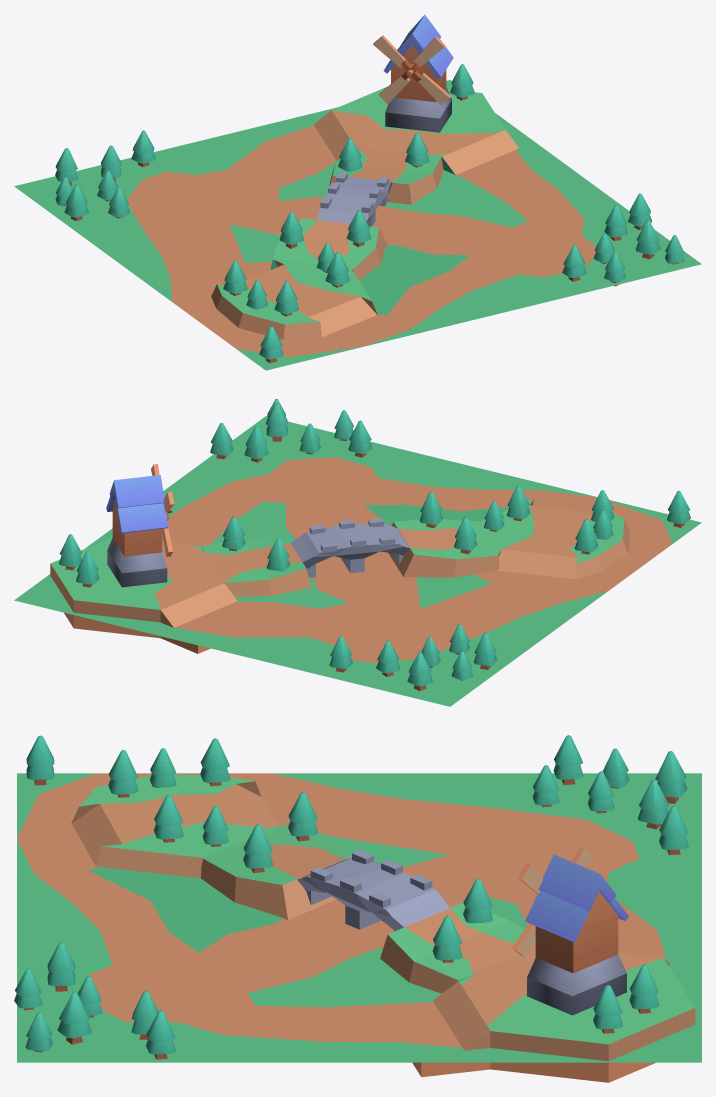
The model's file is TL_paperland.glb.
3 renders of one model, top to bottom at view 1: azimuth 30°, elevation 25°; view 2: azimuth 150°, elevation 25°; view 3: azimuth 270°, elevation 25°, orthographic. The views are drawn at different scales.
Visible parts, largest first — view 1: Plane, building-mill, building-mill.004, building-mill.003, Cube, rotate-x, building-mill.019, building-mill.013, building-mill.021, building-mill.012, building-mill.028, building-mill.014 (+10 smaller); view 2: Plane, building-mill, building-mill.004, building-mill.003, Cube, building-mill.026, building-mill.019, building-mill.014, building-mill.013, building-mill.021, building-mill.028, building-mill.001 (+11 smaller); view 3: Plane, building-mill, building-mill.004, building-mill.003, Cube, rotate-x, building-mill.019, building-mill.026, building-mill.014, building-mill.028, building-mill.013, building-mill.021 (+20 smaller).
Part boxes in pixels (x1,y1,x2,y2): Plane: (14, 80, 701, 370); building-mill: (314, 14, 518, 204); building-mill.004: (211, 260, 377, 339); building-mill.003: (270, 218, 387, 280); Cube: (317, 172, 392, 226); rotate-x: (373, 35, 450, 105); building-mill.019: (635, 220, 660, 259); building-mill.013: (279, 211, 303, 248); building-mill.021: (64, 184, 88, 221); building-mill.012: (347, 210, 371, 247); building-mill.028: (259, 326, 283, 363); building-mill.014: (562, 244, 586, 281); Plane: (14, 416, 701, 706); building-mill: (50, 475, 311, 653); building-mill.004: (478, 498, 629, 579); building-mill.003: (388, 519, 499, 577); Cube: (290, 518, 409, 577); building-mill.026: (407, 652, 432, 690); building-mill.019: (266, 403, 287, 441); building-mill.014: (348, 420, 372, 457); building-mill.013: (454, 517, 477, 554); building-mill.021: (473, 633, 497, 669); building-mill.028: (667, 491, 691, 527); building-mill.001: (76, 551, 99, 587); Plane: (17, 773, 701, 1062); building-mill: (380, 854, 695, 1082); building-mill.004: (71, 774, 280, 878); building-mill.003: (201, 825, 355, 919); Cube: (297, 850, 449, 931); rotate-x: (512, 847, 592, 957); building-mill.019: (57, 991, 91, 1044); building-mill.026: (655, 751, 687, 803); building-mill.014: (47, 942, 75, 991); building-mill.028: (26, 735, 54, 785); building-mill.013: (288, 792, 317, 841); building-mill.021: (553, 735, 583, 785).
Size of the model in its own units: 2 by 0.5454 by 2.01.
1 material, 1 textured.
